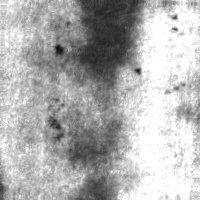patches: (74, 0, 138, 78), (64, 120, 127, 169), (75, 169, 121, 199)
